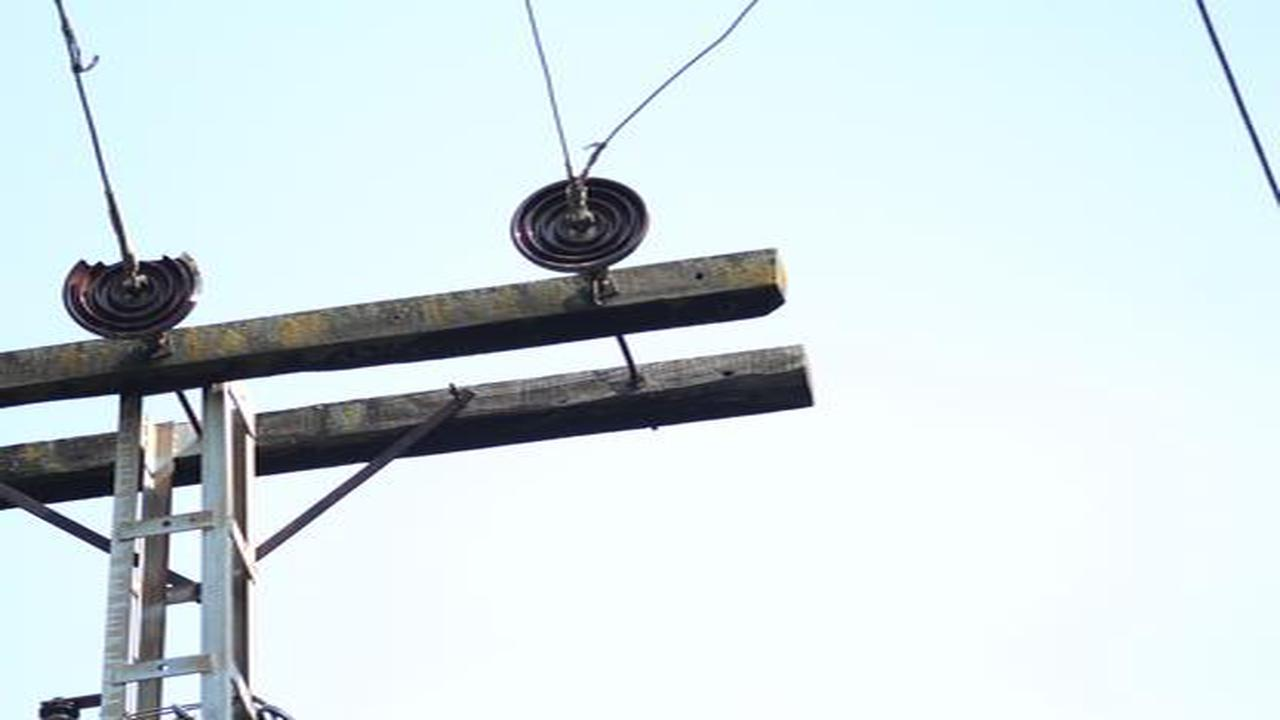defect_disc: (63, 245, 206, 337)
insulator_disc: (507, 170, 656, 274)
